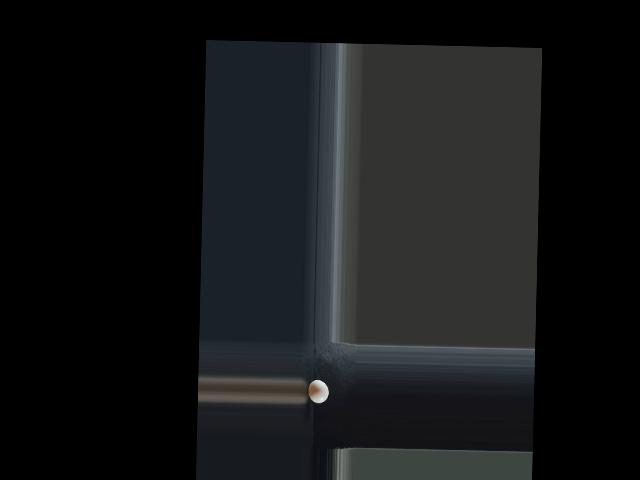egg: (307, 379, 329, 402)
